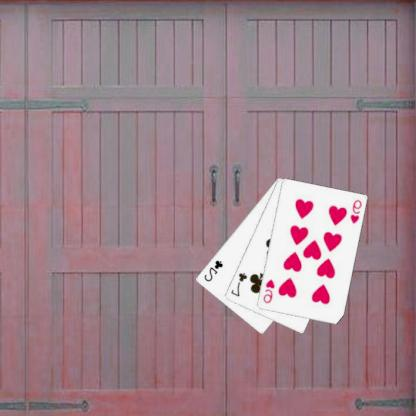2C: (202, 258, 225, 284)
7C: (230, 270, 250, 298)
9H: (349, 197, 364, 225), (262, 277, 277, 304)
